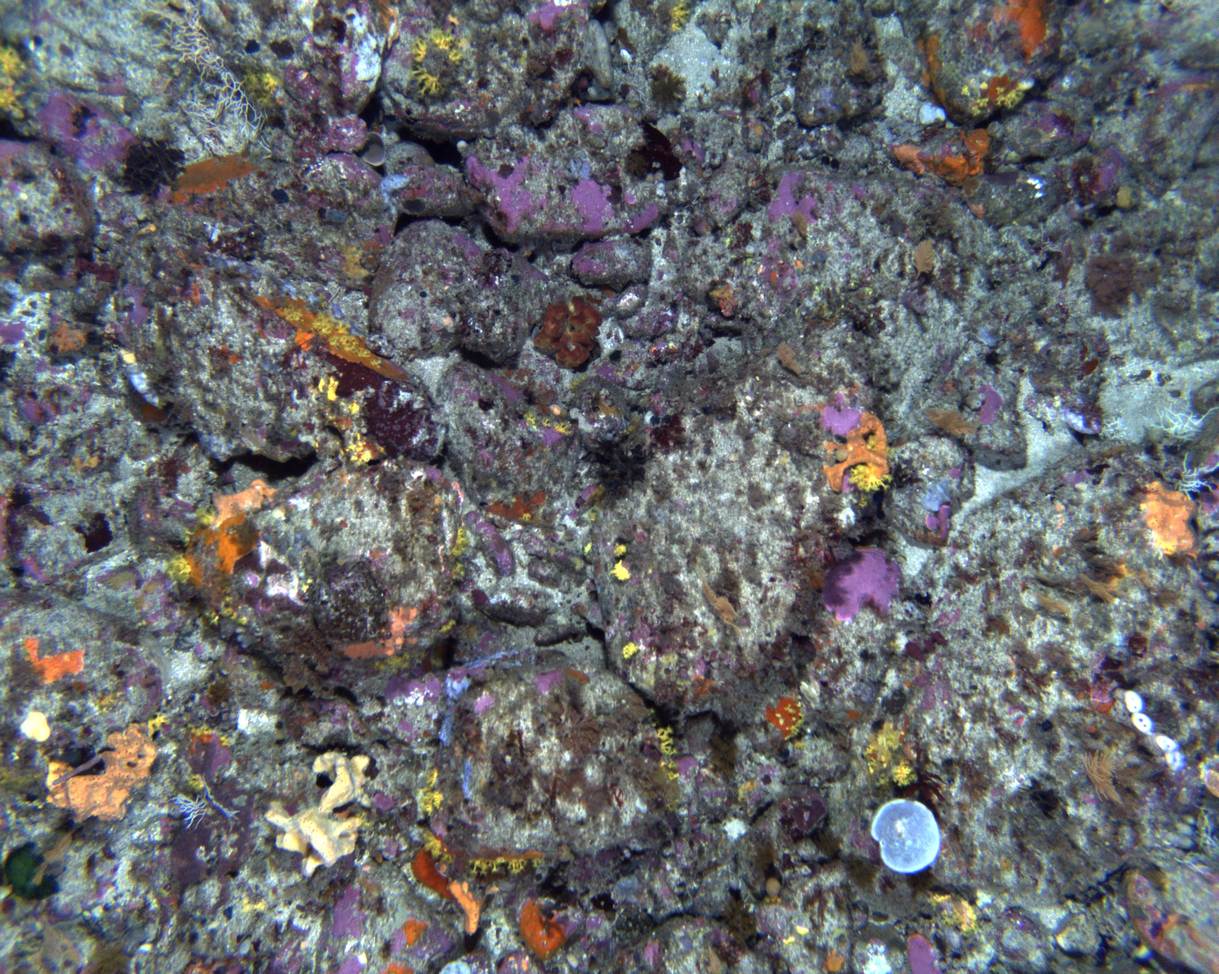Brachionichthyidae: (177, 953, 221, 974)
